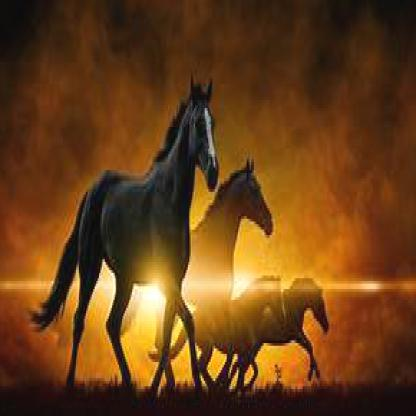horse: (29, 70, 219, 389), (190, 157, 272, 394), (234, 276, 285, 392), (285, 276, 330, 384)
